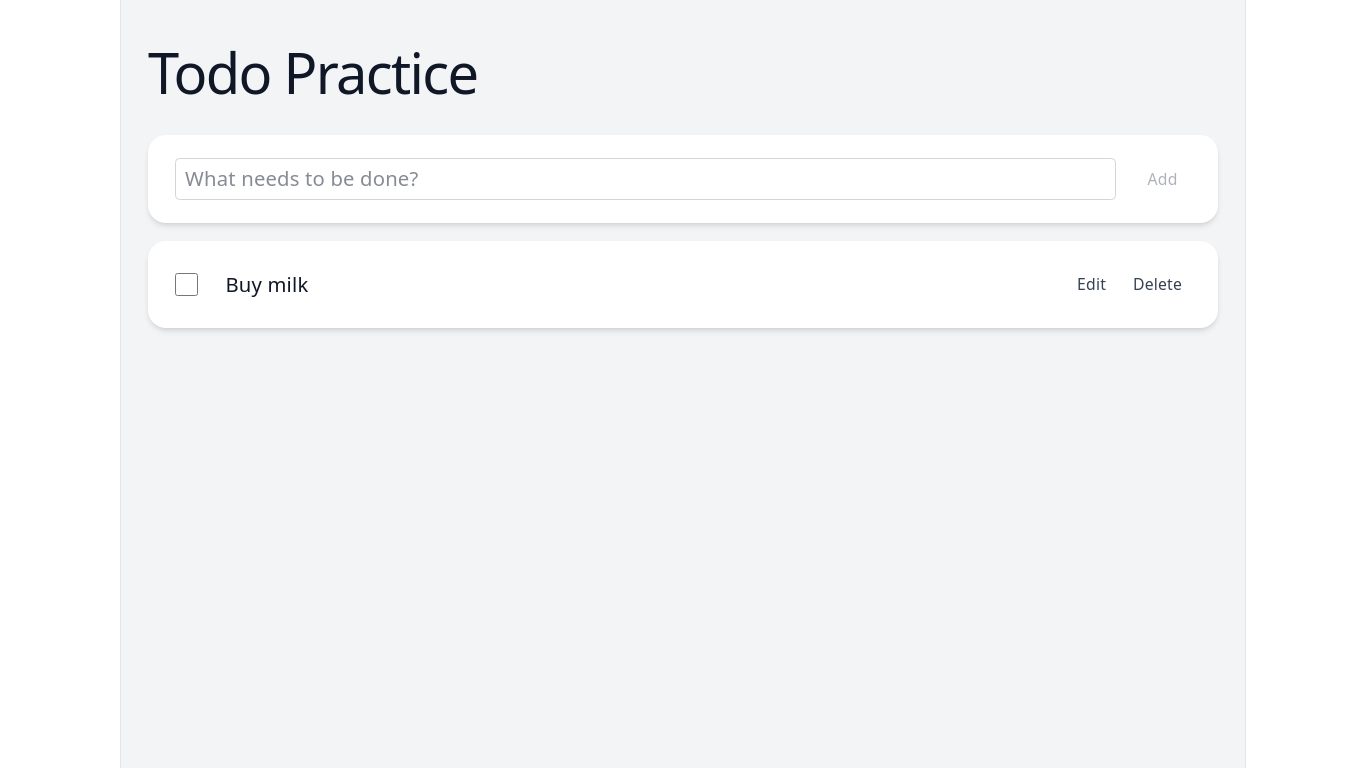
Test: App › shows No todos yet after the last todo is deleted
Click the button with aria-label "Delete Buy milk" at (1158, 284), box [1124, 269, 1191, 300]
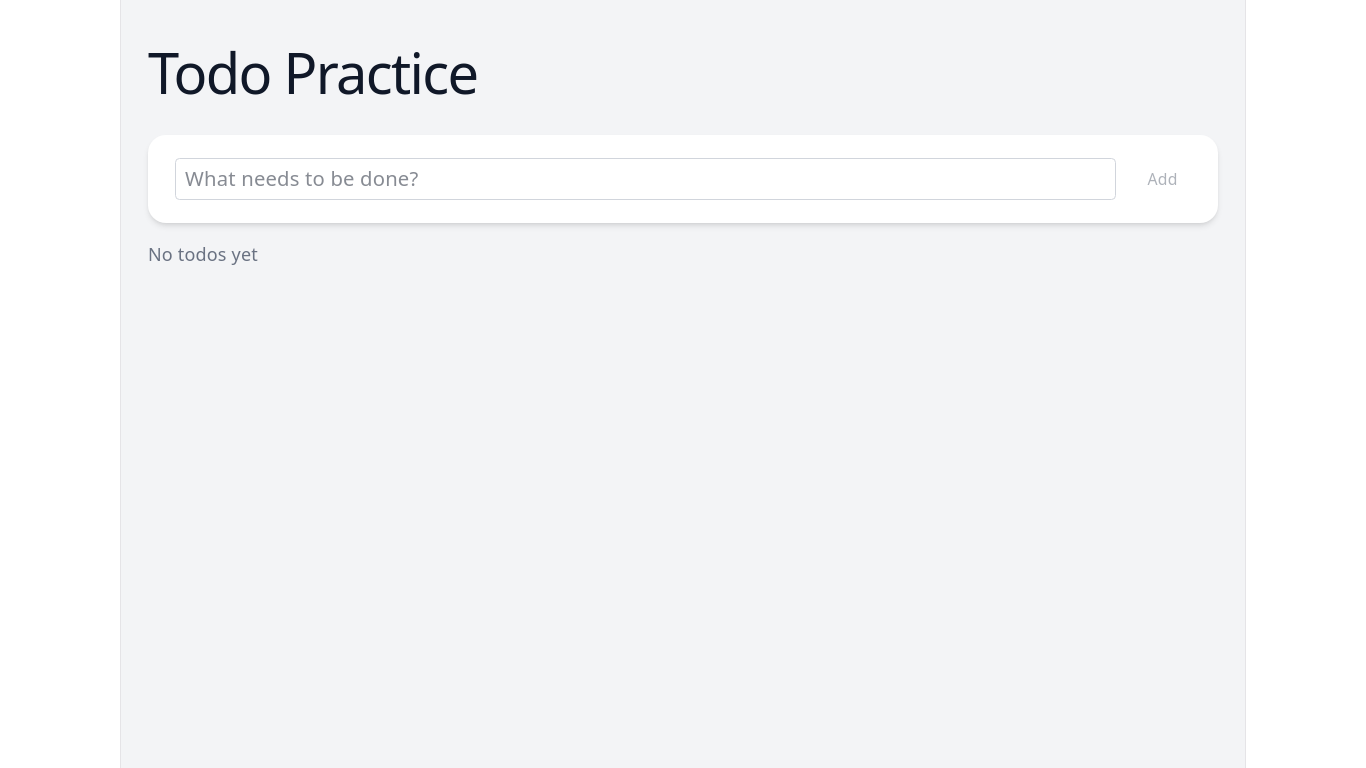
Expected: the text "No todos yet" is shown, [148, 242, 258, 266]
Expected: the list is gone
